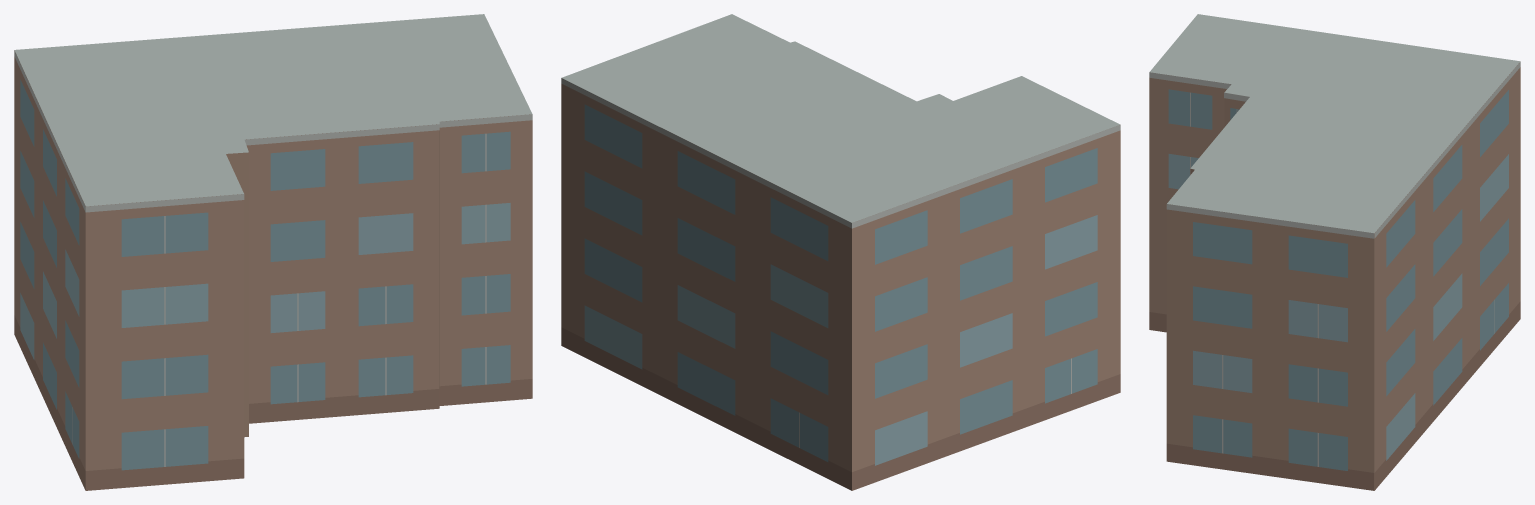
The model's file is survey-upis-32827475.glb.
3 views of the same model, side by side, from view 1: azimuth 30°, elevation 25°; view 2: azimuth 150°, elevation 25°; view 3: azimuth 270°, elevation 25° (orthographic). The views are drawn at different scales.
Parts seen in each view (by area): view 1: survey-upis-32827475.tmp; view 2: survey-upis-32827475.tmp; view 3: survey-upis-32827475.tmp.
Boxes of the visible parts, x1,y1,x2,y2 form: survey-upis-32827475.tmp: (14, 14, 532, 490); survey-upis-32827475.tmp: (561, 14, 1120, 490); survey-upis-32827475.tmp: (1149, 14, 1520, 490).
Size of the model in its own units: 20.82 by 11.4 by 14.9.
